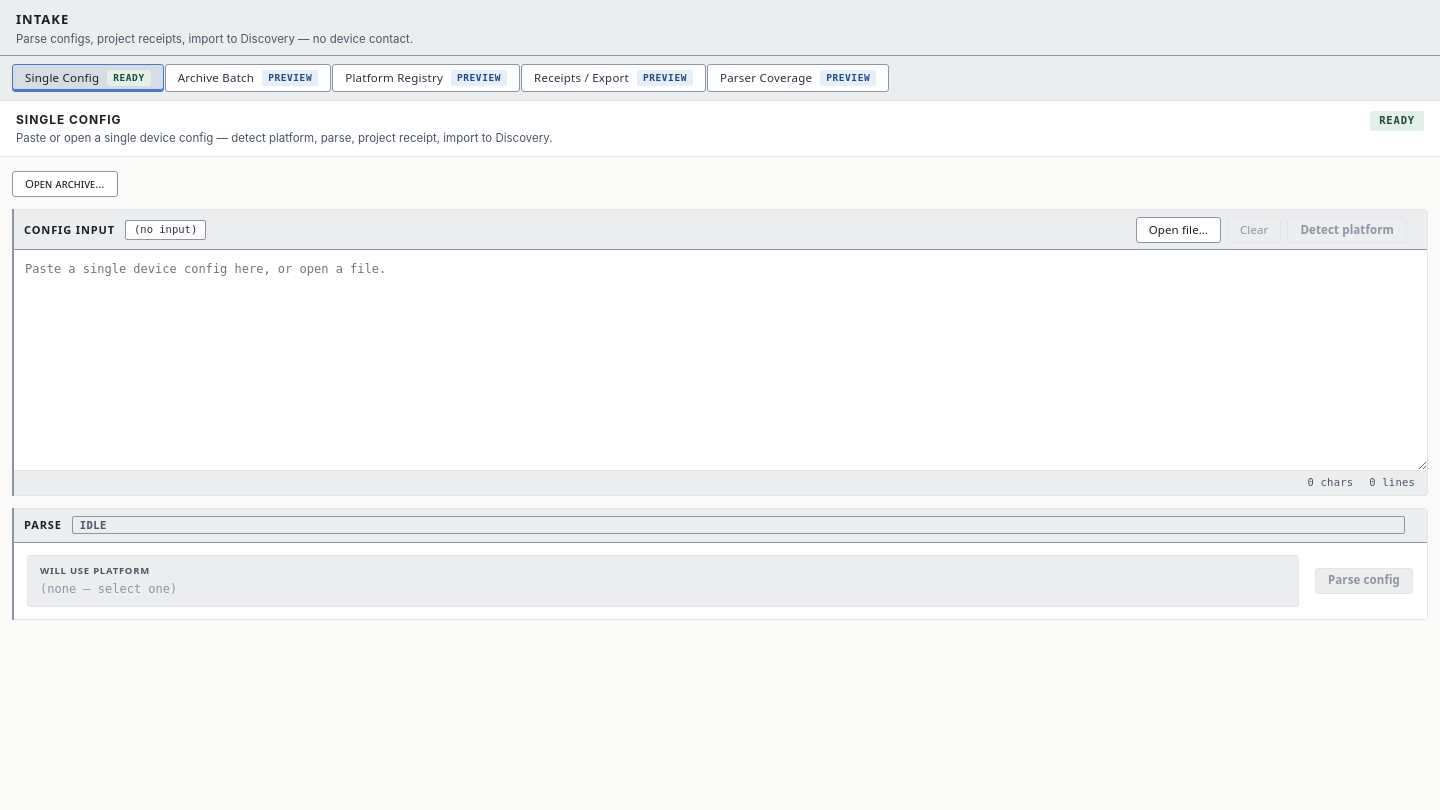
it: IntakeMode — workbench (V1BN) › switching to Receipts / Export shows deferred state
Click the tab with test id "mwb-tool-receipts_export".
click(614, 78)  # box [521,64,706,92]
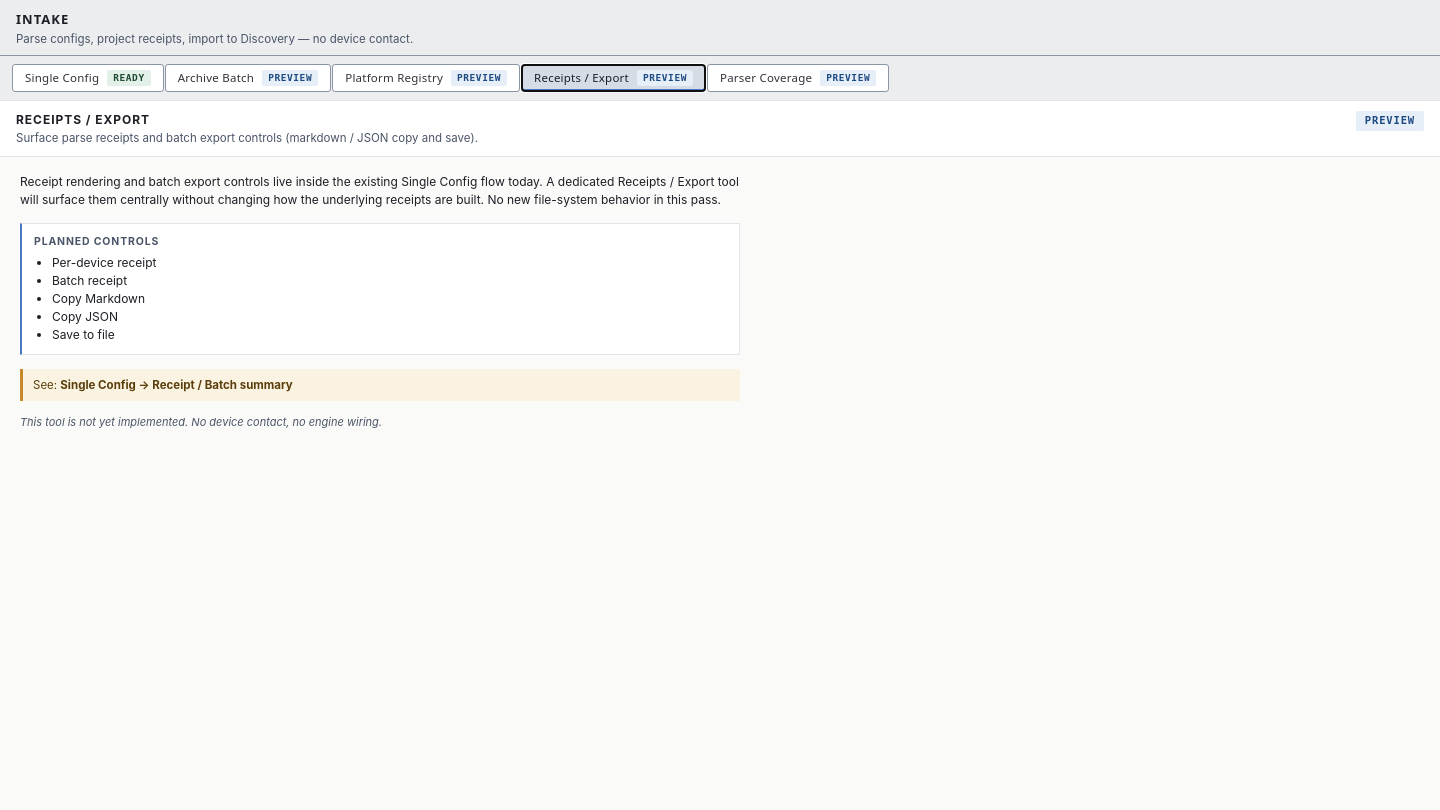
Now the element with test id "mwb-deferred-receipts_export" is shown, box [0,157,760,447]
